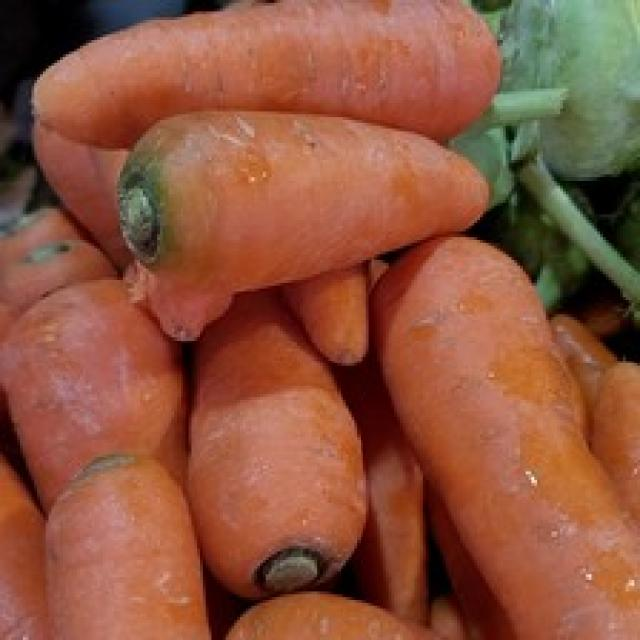Fresh_Carrot: (383, 229, 636, 640), (33, 2, 504, 151), (120, 108, 496, 293), (185, 296, 355, 600), (3, 267, 198, 528), (45, 458, 212, 640)
